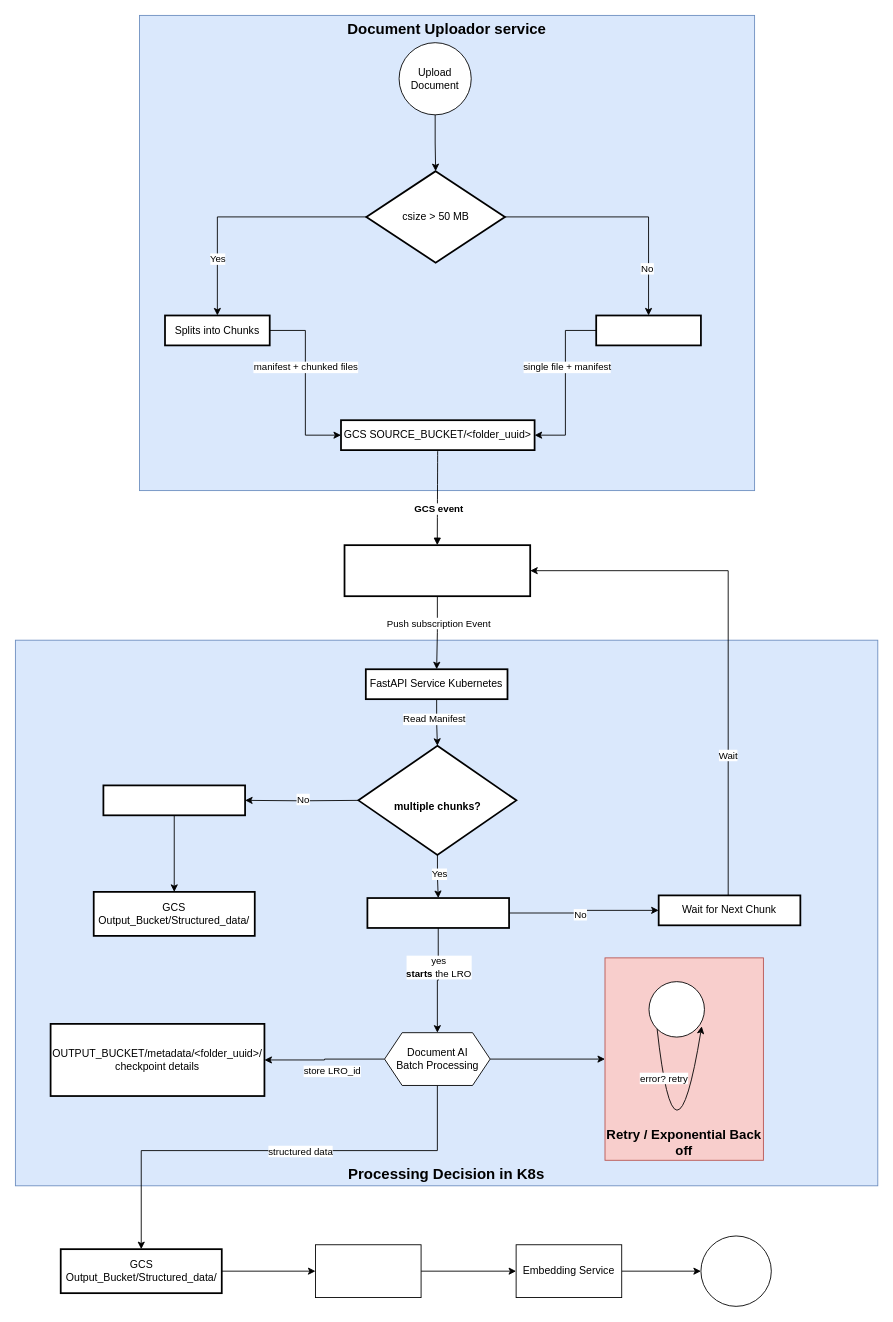
This 893x1322 diagram has some shape labels left out. Each missing label, with the centre of its shape:
Check All Chunks?: pixel 438 912
Chunking Service structured data: pixel 368 1271
process single file: pixel 174 800
Pub/Sub Topic: pixel 437 570
Rename & Upload: pixel 648 330
start_LRO: pixel 676 1009
VectorDB: pixel 735 1270
